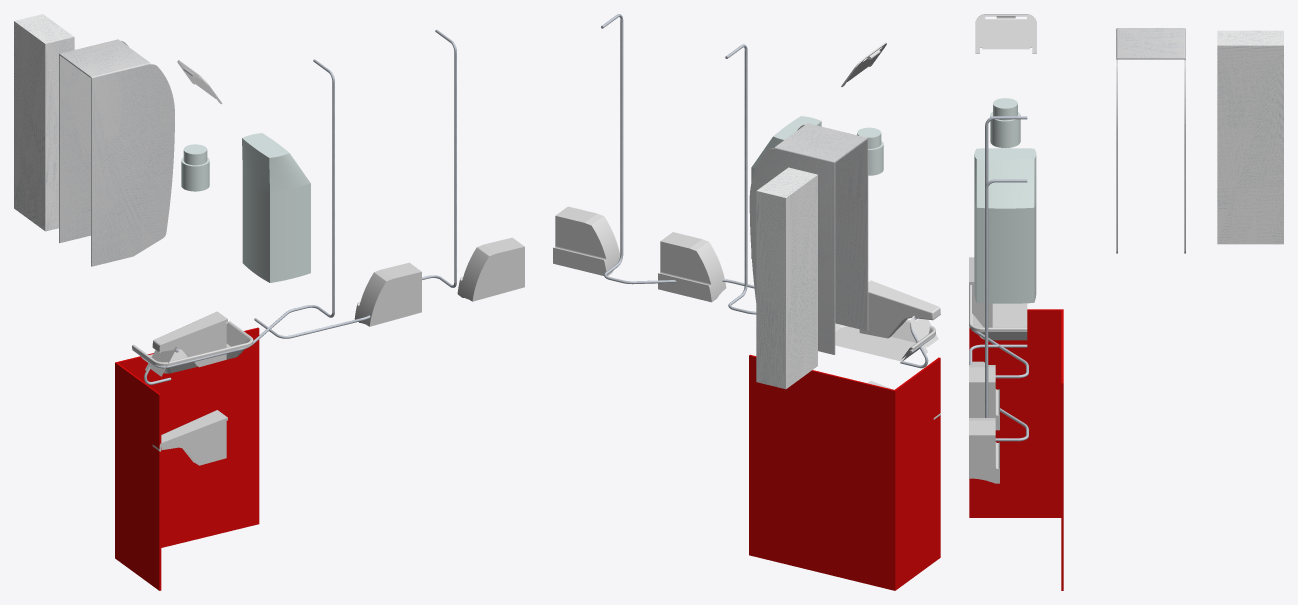
Rendered from 3dFile.glb.
3 views of the same model, side by side, from view 1: azimuth 30°, elevation 25°; view 2: azimuth 150°, elevation 25°; view 3: azimuth 270°, elevation 25° (orthographic). The views are drawn at different scales.
Parts seen in each view (by area): view 1: group_4, group_2, group_3, group_1, group_7.006, group_7.007, group_8.004, group_8.005, group_5.003, group_5.002, group_6.005, group_6.004 (+1 smaller); view 2: group_4, group_2, group_3, group_7.007, group_7.006, group_8.005, group_6.004, group_5.002, group_5.003, group_1, group_6.005; view 3: group_3, group_4, group_1, group_2, group_7.006, group_5.002, group_6.004, group_7.007, instance_4, instance_3, group_6.005, group_0 (+3 smaller).
Boxes of the visible parts, left/top/right/bottom form: group_4: left=115, top=327, right=259, bottom=590; group_2: left=59, top=39, right=174, bottom=266; group_3: left=14, top=14, right=74, bottom=231; group_1: left=242, top=133, right=310, bottom=282; group_7.006: left=457, top=237, right=524, bottom=301; group_7.007: left=354, top=262, right=421, bottom=326; group_8.004: left=152, top=410, right=227, bottom=465; group_8.005: left=152, top=311, right=227, bottom=367; group_5.003: left=132, top=59, right=334, bottom=368; group_5.002: left=254, top=29, right=456, bottom=338; group_6.005: left=132, top=321, right=253, bottom=373; group_6.004: left=132, top=321, right=252, bottom=373; group_4: left=749, top=354, right=940, bottom=590; group_2: left=749, top=123, right=868, bottom=354; group_3: left=756, top=167, right=817, bottom=389; group_7.007: left=658, top=232, right=726, bottom=302; group_7.006: left=553, top=206, right=620, bottom=275; group_8.005: left=859, top=280, right=940, bottom=338; group_6.004: left=835, top=320, right=935, bottom=361; group_5.002: left=601, top=14, right=754, bottom=288; group_5.003: left=725, top=44, right=935, bottom=353; group_1: left=751, top=116, right=821, bottom=258; group_6.005: left=835, top=319, right=935, bottom=361; group_3: left=1217, top=30, right=1283, bottom=244; group_4: left=969, top=309, right=1063, bottom=590; group_1: left=974, top=148, right=1036, bottom=303; group_2: left=1116, top=28, right=1185, bottom=253; group_7.006: left=969, top=418, right=999, bottom=483; group_5.002: left=969, top=179, right=1028, bottom=441; group_6.004: left=969, top=285, right=1027, bottom=340; group_7.007: left=969, top=365, right=999, bottom=430; instance_4: left=975, top=14, right=1006, bottom=53; instance_3: left=1006, top=14, right=1036, bottom=53; group_6.005: left=969, top=285, right=1027, bottom=340; group_0: left=990, top=111, right=1020, bottom=147.
Size of the model in its own units: 0.5939 by 0.7706 by 0.4165.
Materials: 6 (1 with a texture image).
